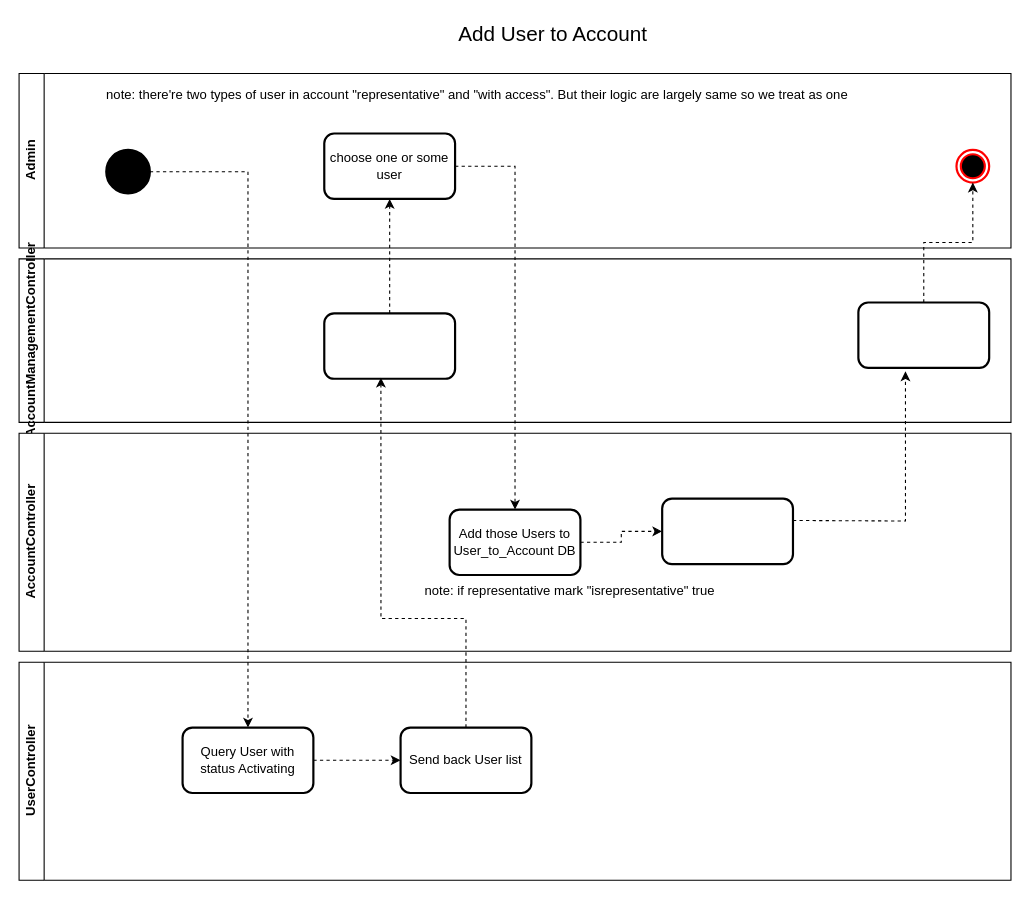
Image size: 1030x899. Some labels were removed from this diagram. The shapes that lost their labels are listed below. From the top down, each one's centre as x and y in pixels, then its label:
At pixel 127 171: "Choose add User".
At pixel 389 345: "Display User List".
At pixel 923 334: "Display Account with User".
At pixel 727 531: "Send back User List owff Account".
